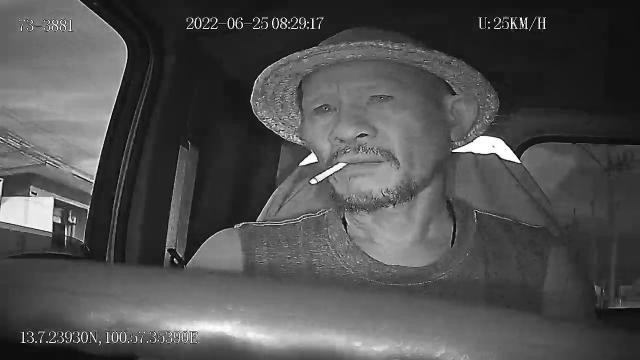SafeDriving: (363, 84, 401, 109), (307, 94, 343, 120)
Smoking: (310, 162, 348, 184)
